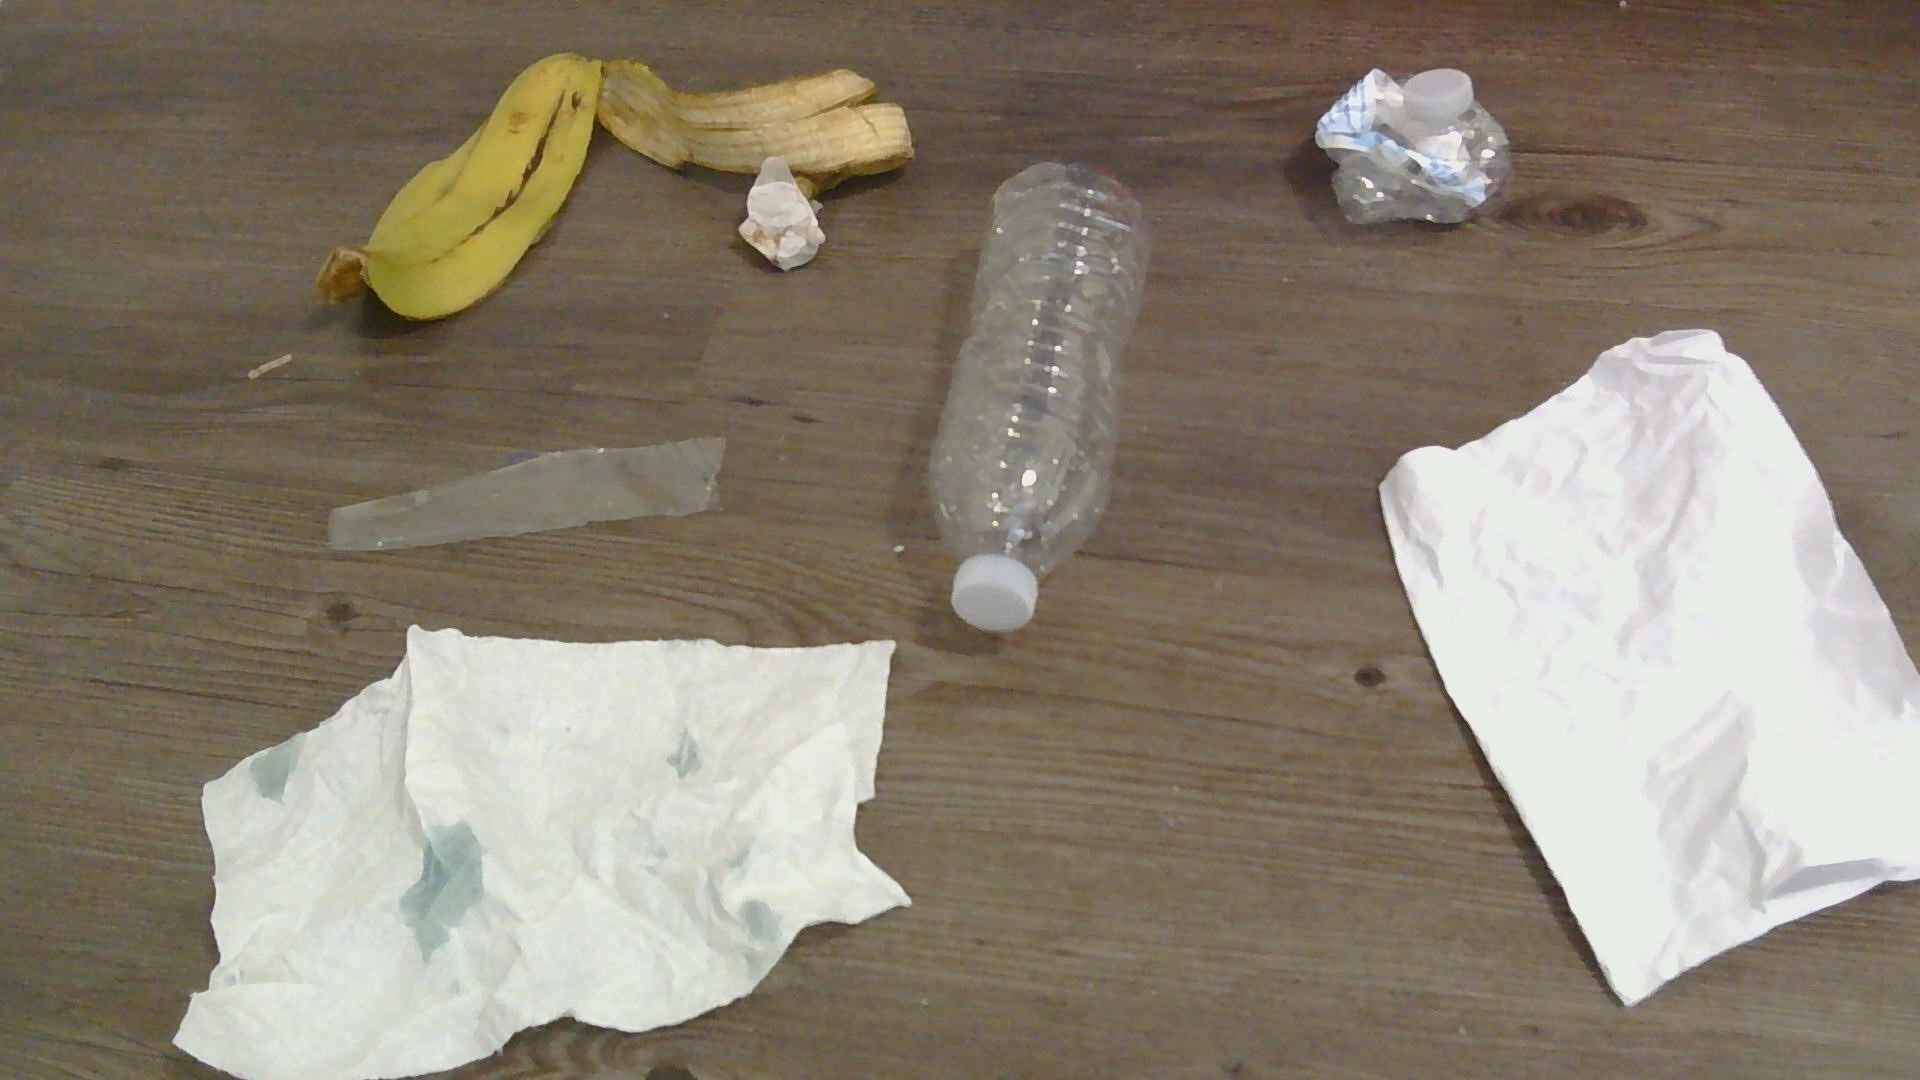banana peel: (318, 42, 603, 327), (593, 54, 915, 195)
bottle: (930, 150, 1155, 640)
crushed bottle: (1313, 66, 1515, 231)
napkin: (186, 630, 915, 1080)
paper: (1374, 330, 1917, 1000)
plastic piece: (318, 426, 723, 555)
